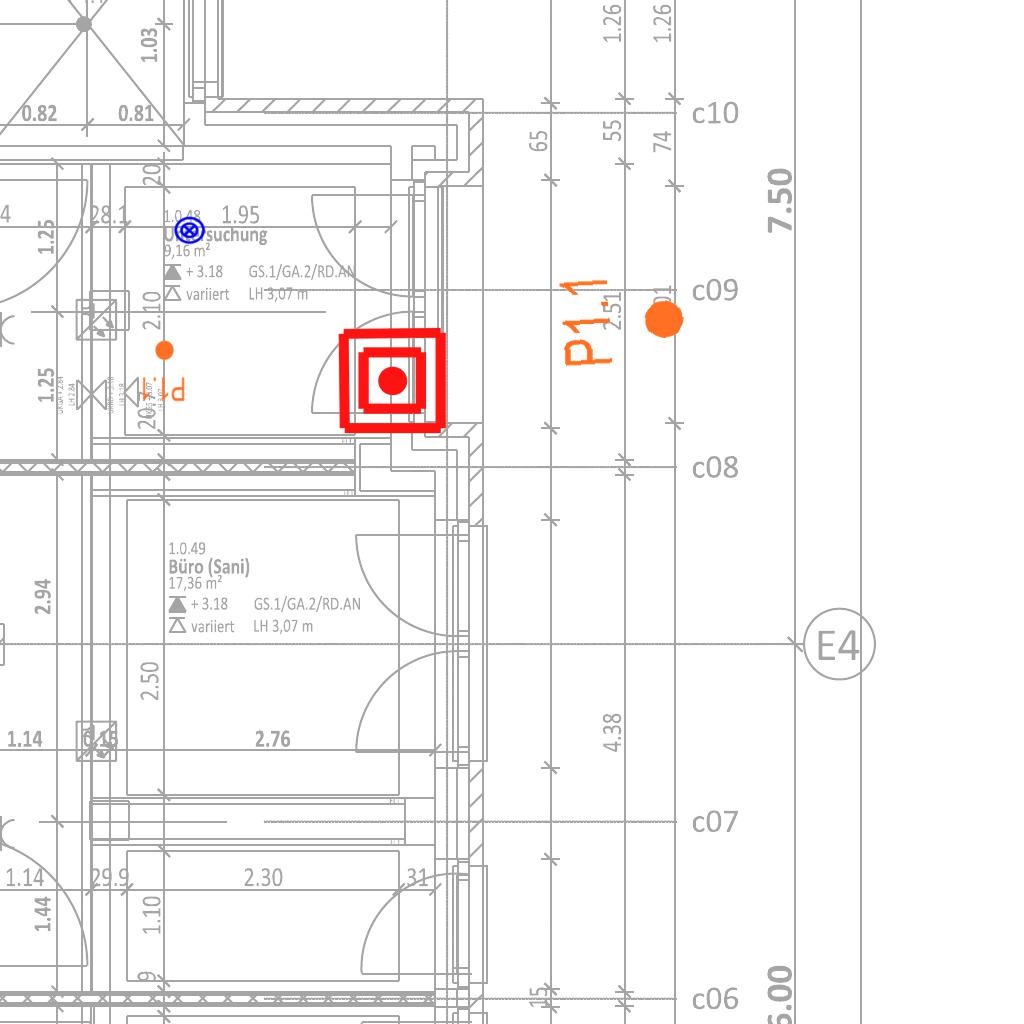Downlight_LED_Einbauleuchten_Flur: (555, 268, 690, 370), (140, 339, 186, 403)
NAM-Nichtautomatischer_Melder: (336, 324, 449, 437)
Taster_beleuchtet: (173, 214, 206, 247)
